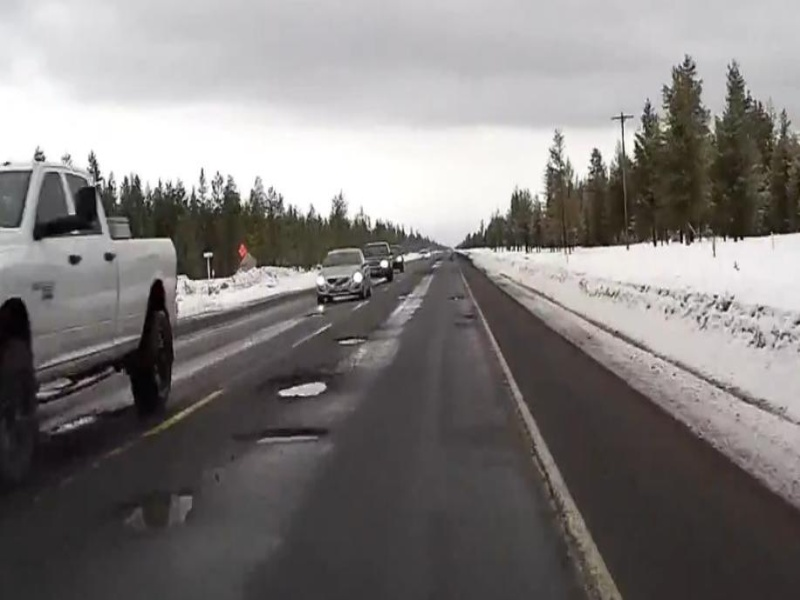pothole: (116, 487, 196, 541), (266, 375, 333, 401), (238, 428, 331, 443), (324, 336, 375, 347)
